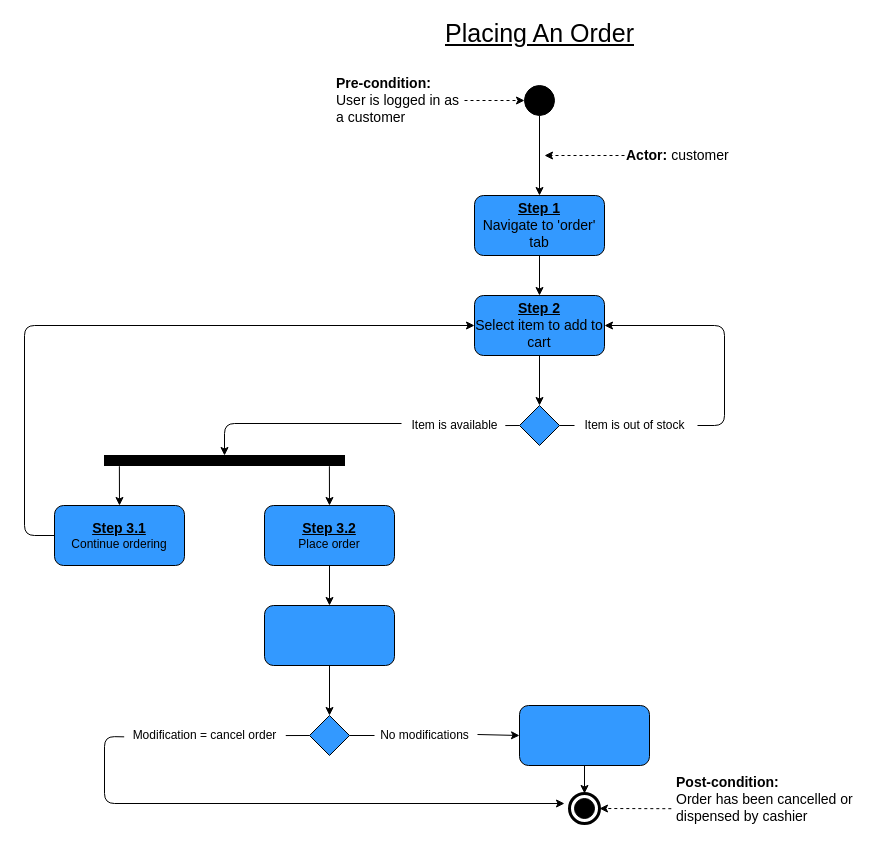
The diagram is 892 pixels wide and 856 high, and some of its shapes have lost their labels. The box of each missing label's shape, as (x1, y1, x2, y2) in pixels:
Step 4 Modify order: (264, 604, 394, 666)
Step 5 Pickup order: (518, 704, 650, 766)
